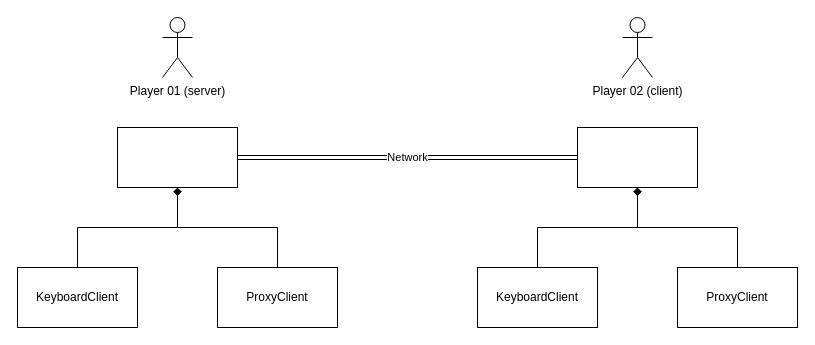
The diagram is 815 pixels wide and 345 high, and some of its shapes have lost their labels. Here are the shapes that lost their labels. From the top down, the centre of each, then its label:
At pixel 177 157: "Core".
At pixel 637 157: "ProxyCore".
